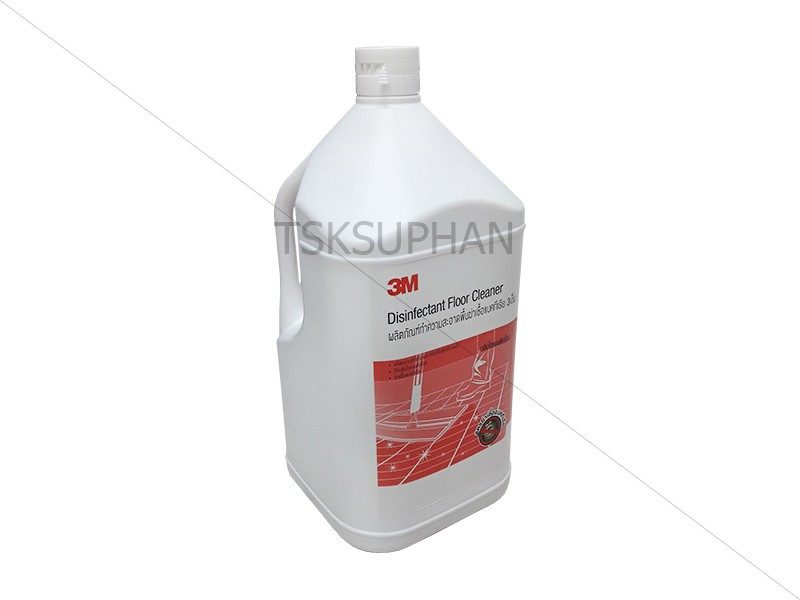Cleaning_solution: (263, 33, 528, 559)
